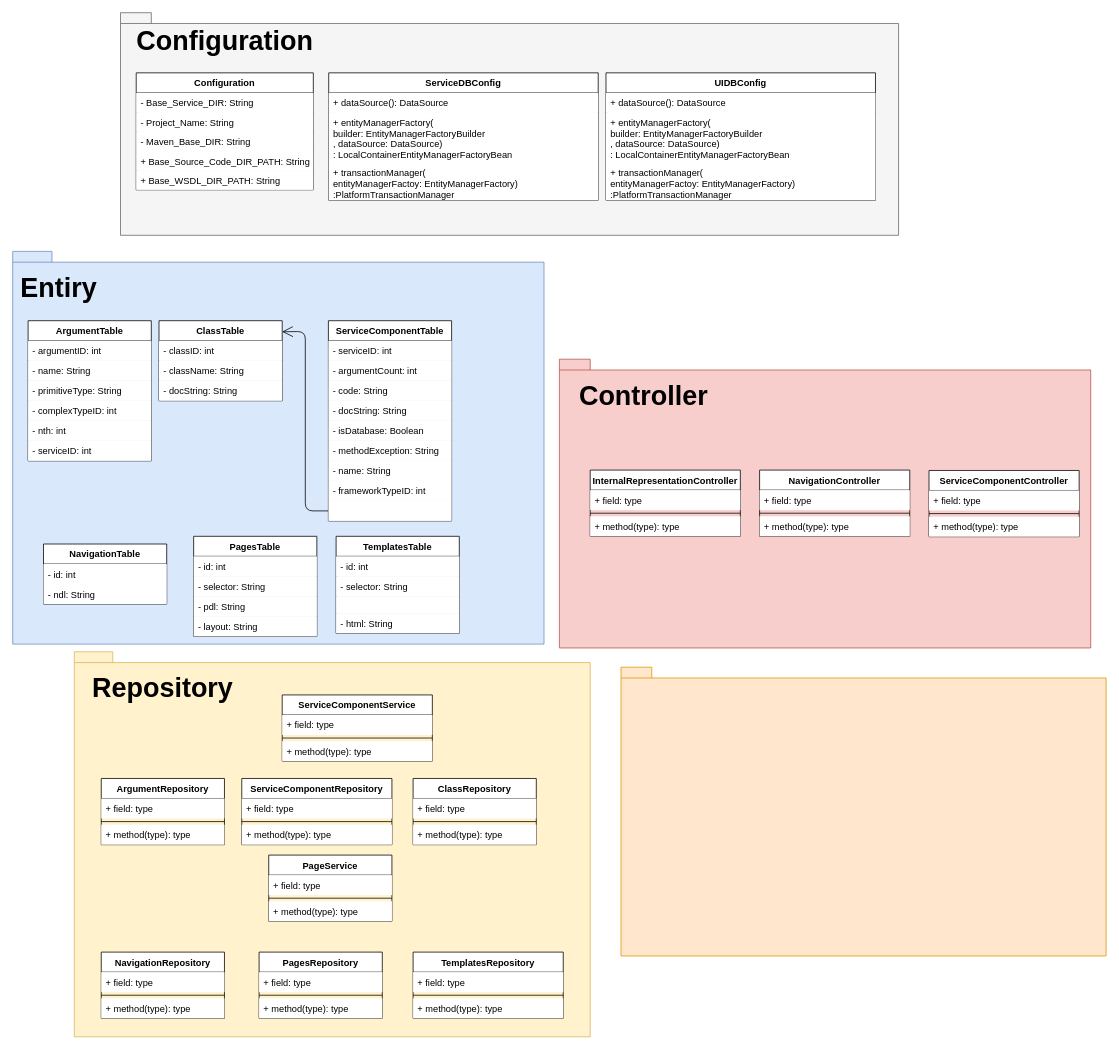
Some shapes in this 1119 by 1050 pixel diagram are drawn without their labels. The shapes that lost their labels are listed below. From the top down, each one's centre as x and y in pixels, then its label:
At [389,510]: "- klass: ClassTable".
At [397,604]: "- page: String".
At [863,811]: "Services".
